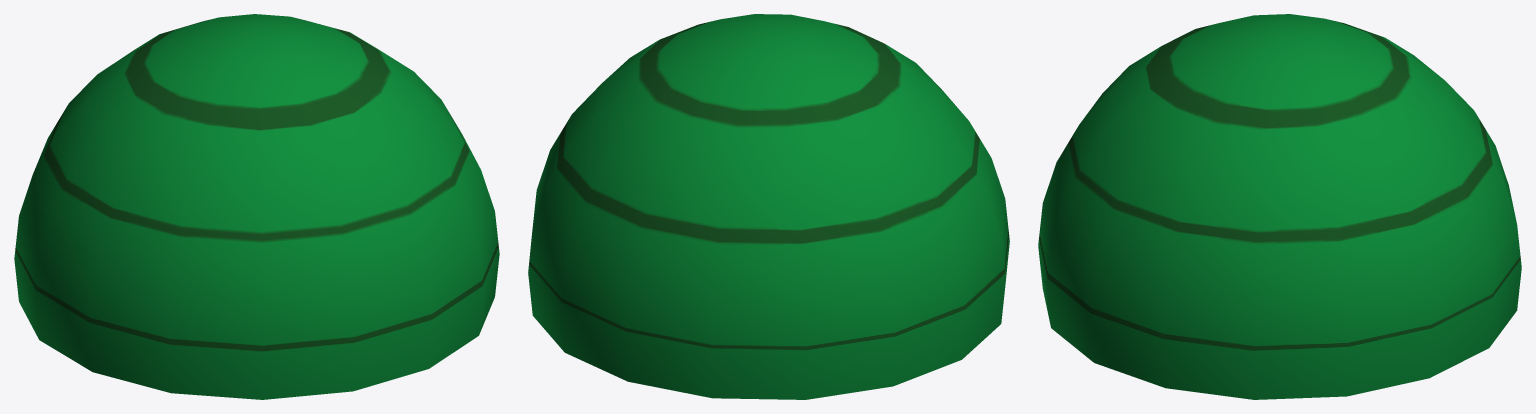
Rendered from Bush.fbx.
The picture shows the model from 3 angles, left to right: view 1: azimuth 30°, elevation 25°; view 2: azimuth 150°, elevation 25°; view 3: azimuth 270°, elevation 25°; orthographic projection.
Parts seen in each view (by area): view 1: Bush2; view 2: Bush2; view 3: Bush2.
Part boxes in pixels (bbox=[...]): Bush2: bbox=[14, 14, 499, 399]; Bush2: bbox=[528, 14, 1009, 399]; Bush2: bbox=[1038, 14, 1521, 399].
Bounding box in the file's own units: 0.701 × 0.4213 × 0.701.
